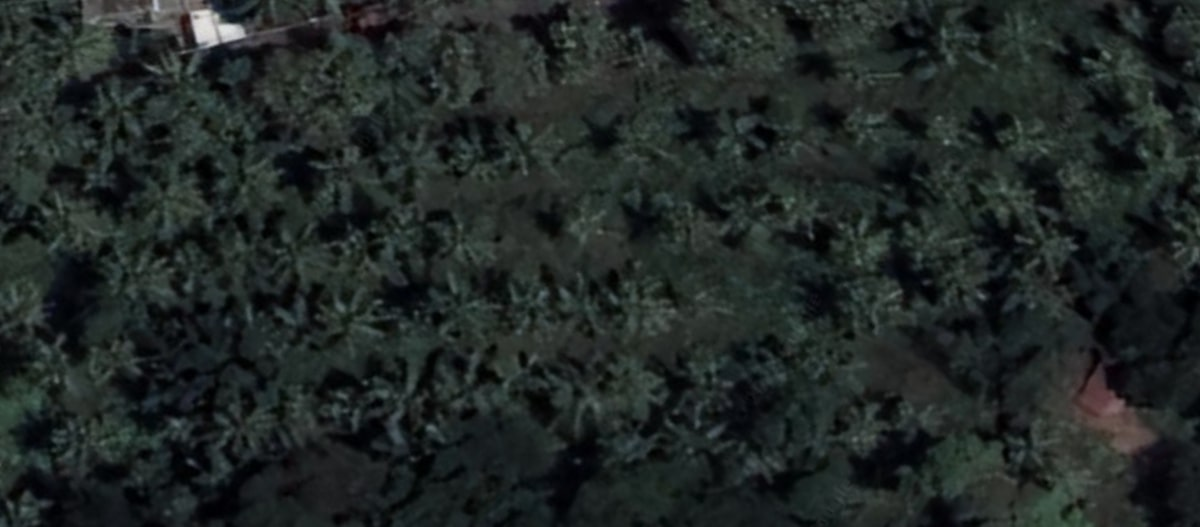coconut: (594, 257, 684, 340), (317, 376, 406, 444), (1015, 218, 1095, 292), (1081, 28, 1155, 106), (308, 289, 390, 358), (448, 117, 536, 179), (829, 210, 892, 295), (963, 165, 1041, 233), (85, 75, 162, 140), (847, 264, 915, 337), (605, 111, 675, 181), (302, 145, 371, 215), (993, 414, 1061, 485), (424, 275, 490, 348), (138, 173, 210, 235), (111, 252, 180, 316), (590, 363, 666, 420), (501, 272, 565, 339), (214, 401, 275, 470), (33, 193, 98, 254), (85, 336, 158, 388), (997, 112, 1061, 171), (838, 105, 903, 163), (380, 132, 438, 196), (267, 227, 331, 285), (59, 418, 126, 473), (770, 190, 834, 245), (720, 114, 778, 174), (689, 359, 745, 419), (1126, 108, 1181, 168), (1168, 209, 1200, 287), (30, 331, 72, 386), (845, 409, 891, 456)
